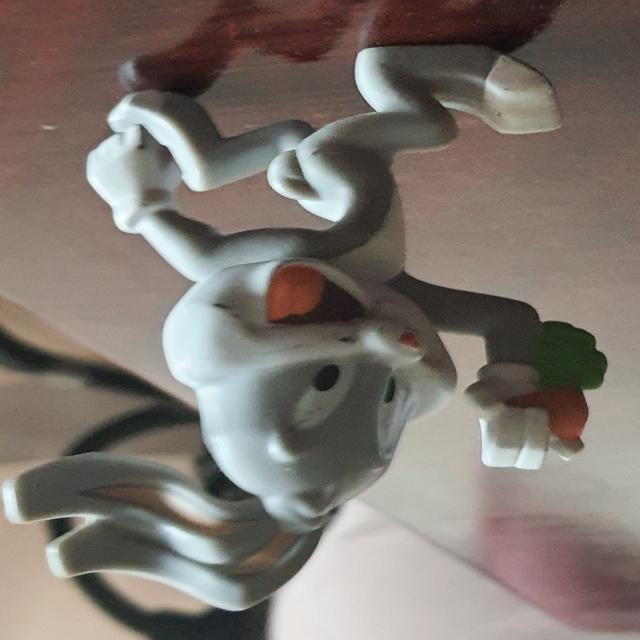Rabbit: (2, 42, 608, 620)
